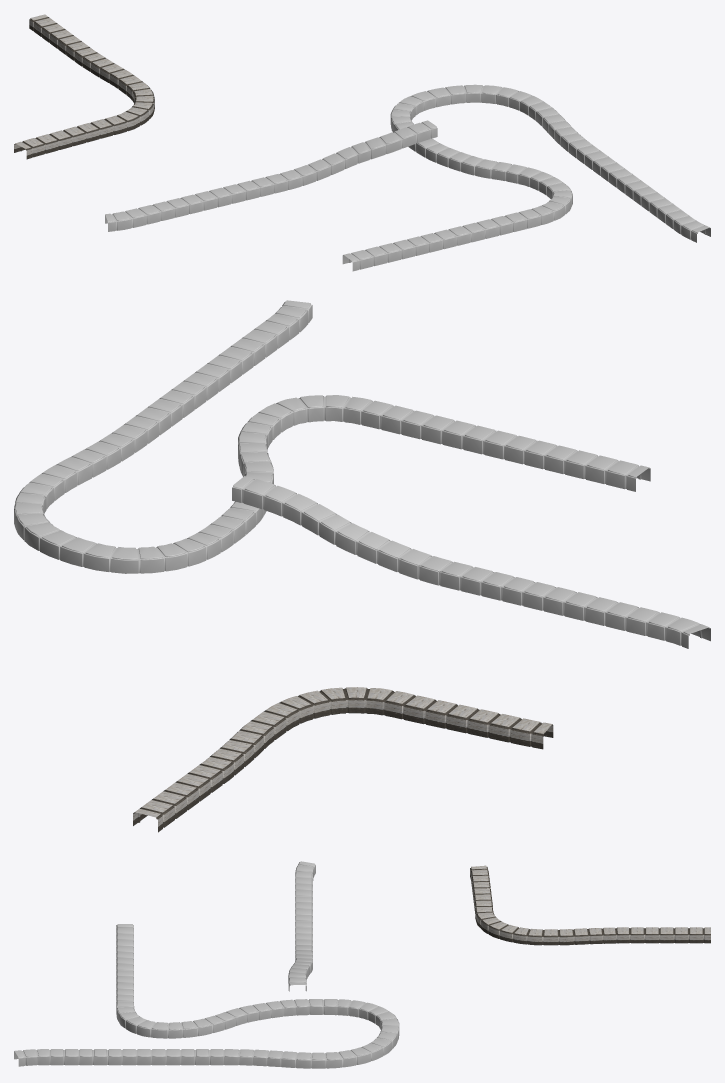
The model's file is tunnel.fbx.
3 renders of one model, top to bottom at view 1: azimuth 30°, elevation 25°; view 2: azimuth 150°, elevation 25°; view 3: azimuth 270°, elevation 25°, orthographic. The views are drawn at different scales.
Parts seen in each view (by area): view 1: Mesh, Mesh_ncl1_2, Mesh_ncl1_1; view 2: Mesh, Mesh_ncl1_2, Mesh_ncl1_1; view 3: Mesh, Mesh_ncl1_1, Mesh_ncl1_2.
Part boxes in pixels (x1=…): Mesh: x1=342, y1=84, x2=710, y2=271; Mesh_ncl1_2: x1=105, y1=120, x2=437, y2=231; Mesh_ncl1_1: x1=14, y1=14, x2=154, y2=159; Mesh: x1=14, y1=300, x2=650, y2=573; Mesh_ncl1_2: x1=232, y1=476, x2=710, y2=648; Mesh_ncl1_1: x1=133, y1=687, x2=553, y2=832; Mesh: x1=14, y1=924, x2=399, y2=1068; Mesh_ncl1_1: x1=470, y1=865, x2=710, y2=945; Mesh_ncl1_2: x1=288, y1=861, x2=315, y2=991.
Bounding box in the file's own units: 24062 × 1543 × 35690.
